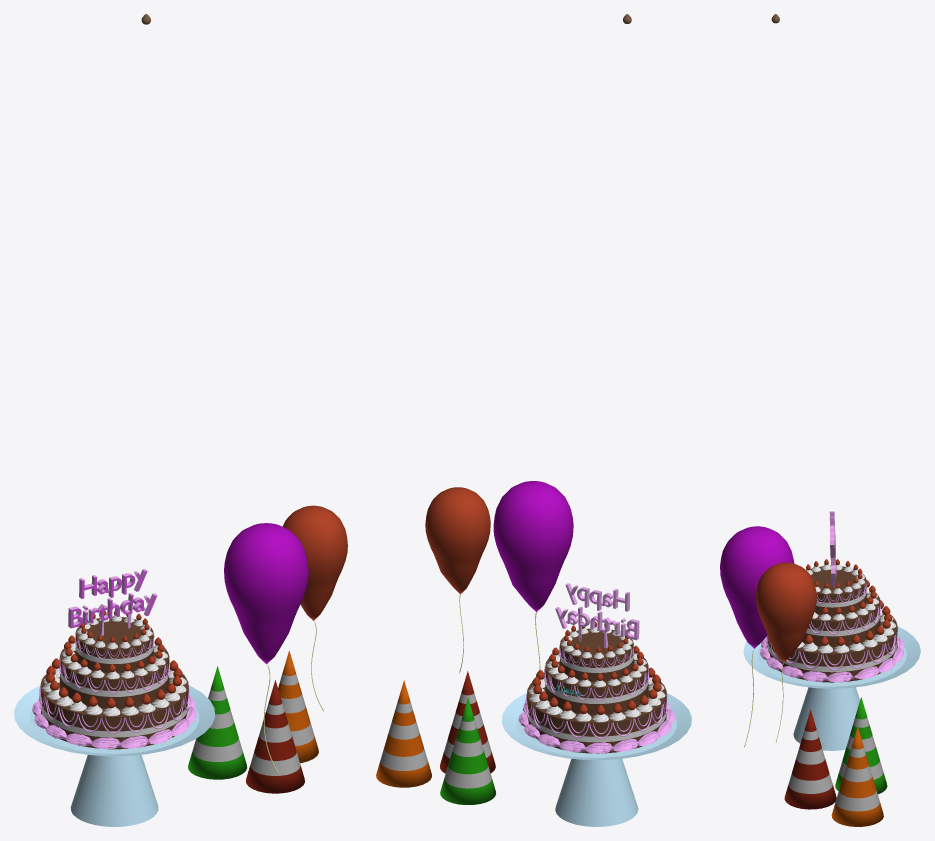
Rendered from cake.gltf.
The picture shows the model from 3 angles, left to right: view 1: azimuth 30°, elevation 25°; view 2: azimuth 150°, elevation 25°; view 3: azimuth 270°, elevation 25°; orthographic projection. The views are drawn at different scales.
Visible parts, largest first — view 1: Cake, Balloons, Birthday Hats, Cake Holder, Happy Birthday Decoration; view 2: Cake, Balloons, Birthday Hats, Cake Holder, Happy Birthday Decoration; view 3: Cake, Balloons, Birthday Hats, Cake Holder, Happy Birthday Decoration.
Boxes of the visible parts, x1,y1,x2,y2 form: Cake: [32, 14, 196, 749]; Balloons: [224, 505, 347, 774]; Birthday Hats: [188, 650, 318, 793]; Cake Holder: [14, 685, 214, 826]; Happy Birthday Decoration: [68, 569, 157, 635]; Cake: [519, 14, 674, 753]; Balloons: [425, 481, 573, 673]; Birthday Hats: [376, 671, 495, 804]; Cake Holder: [501, 693, 691, 826]; Happy Birthday Decoration: [555, 583, 639, 648]; Cake: [760, 14, 904, 682]; Balloons: [720, 526, 816, 746]; Birthday Hats: [784, 697, 887, 826]; Cake Holder: [743, 626, 920, 750]; Happy Birthday Decoration: [829, 511, 836, 587].
Size of the model in its own units: 4.7 by 12.16 by 3.07.
6 materials, 5 textured.
